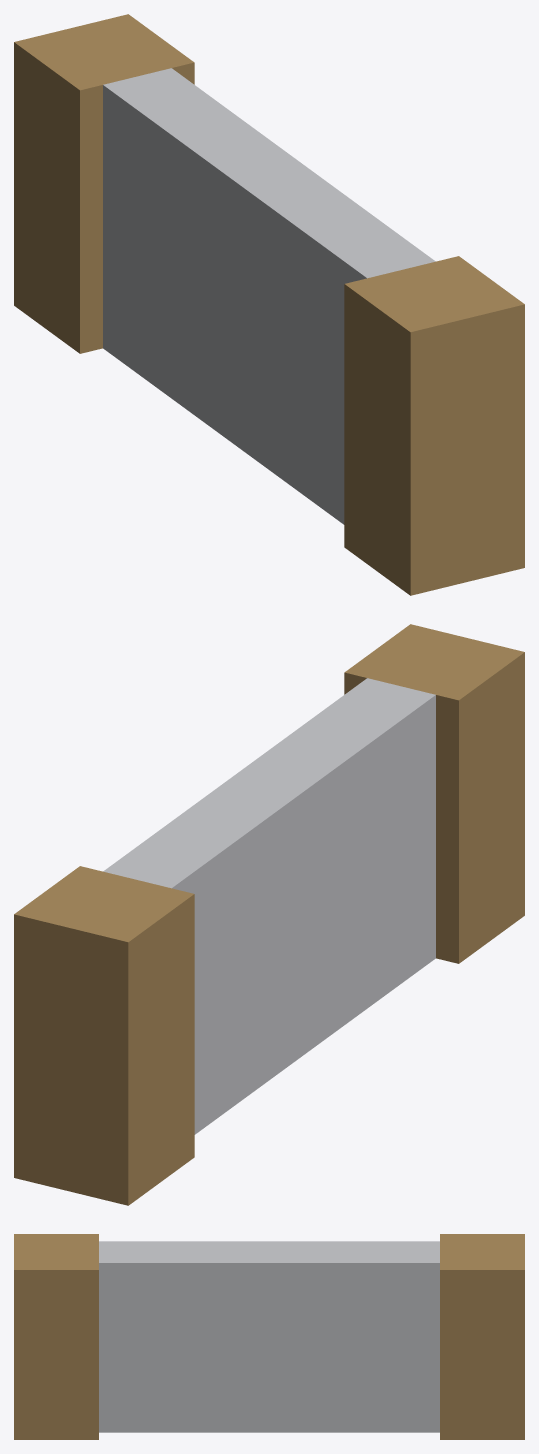
File: Wood_Small_Wall_01.obj
The picture shows the model from 3 angles, top to bottom: view 1: azimuth 30°, elevation 25°; view 2: azimuth 150°, elevation 25°; view 3: azimuth 270°, elevation 25°; orthographic projection. The views are drawn at different scales.
Parts seen in each view (by area): view 1: Mesh1_Wood_Small_Wall_Model; view 2: Mesh1_Wood_Small_Wall_Model; view 3: Mesh1_Wood_Small_Wall_Model.
Part boxes in pixels (x1,y1,x2,y2): Mesh1_Wood_Small_Wall_Model: (14,14,524,595); Mesh1_Wood_Small_Wall_Model: (14,624,524,1205); Mesh1_Wood_Small_Wall_Model: (14,1234,524,1439).
Size of the model in its own units: 0.5 by 1.1 by 3.
